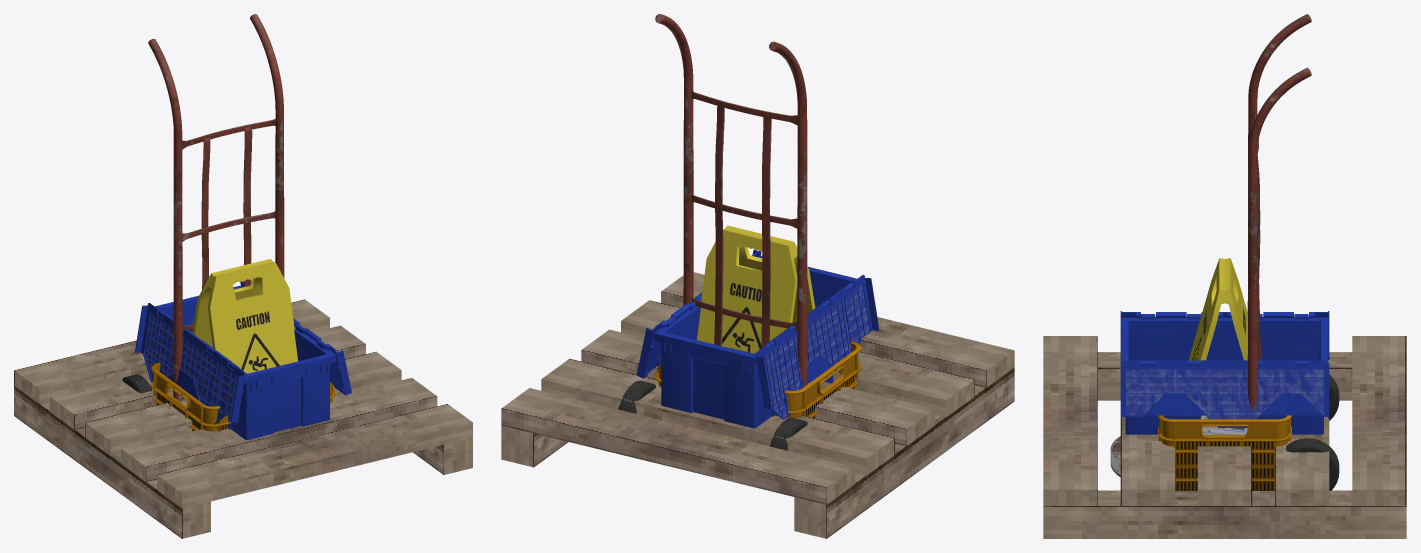
Rendered from energy.glb.
3 renders of one model, left to right at view 1: azimuth 30°, elevation 25°; view 2: azimuth 150°, elevation 25°; view 3: azimuth 270°, elevation 25°, orthographic. The views are drawn at different scales.
Visible parts, largest first — view 1: pallet, hand_truck, WetFloorSign_01, industrial_pastic_container, industrial_pastic_container_lid_b, plastic_crate_02, industrial_pastic_container_lid_a; view 2: pallet, hand_truck, industrial_pastic_container, WetFloorSign_01, industrial_pastic_container_lid_b, plastic_crate_02, industrial_pastic_container_lid_a; view 3: pallet, industrial_pastic_container_lid_a, industrial_pastic_container, hand_truck, plastic_crate_02, WetFloorSign_01, industrial_pastic_container_lid_b.
Boxes of the visible parts, x1,y1,x2,y2 form: pallet: (14,299,472,538); hand_truck: (122,14,284,401); WetFloorSign_01: (192,259,297,373); industrial_pastic_container: (155,285,335,439); industrial_pastic_container_lid_b: (135,303,245,424); plastic_crate_02: (151,362,335,431); industrial_pastic_container_lid_a: (240,281,351,395); pallet: (501,272,1014,538); hand_truck: (618,14,807,450); industrial_pastic_container: (654,255,856,428); WetFloorSign_01: (697,225,815,353); industrial_pastic_container_lid_b: (756,275,879,419); plastic_crate_02: (654,341,861,418); industrial_pastic_container_lid_a: (636,249,761,378); pallet: (1043,336,1406,538); industrial_pastic_container_lid_a: (1120,360,1329,427); industrial_pastic_container: (1121,314,1328,434); hand_truck: (1110,14,1339,490); plastic_crate_02: (1158,415,1291,490); WetFloorSign_01: (1188,258,1247,360); industrial_pastic_container_lid_b: (1120,311,1329,359).
Size of the model in its own units: 1.1 by 1.4 by 1.1.
Materials: 6 (6 with a texture image).
